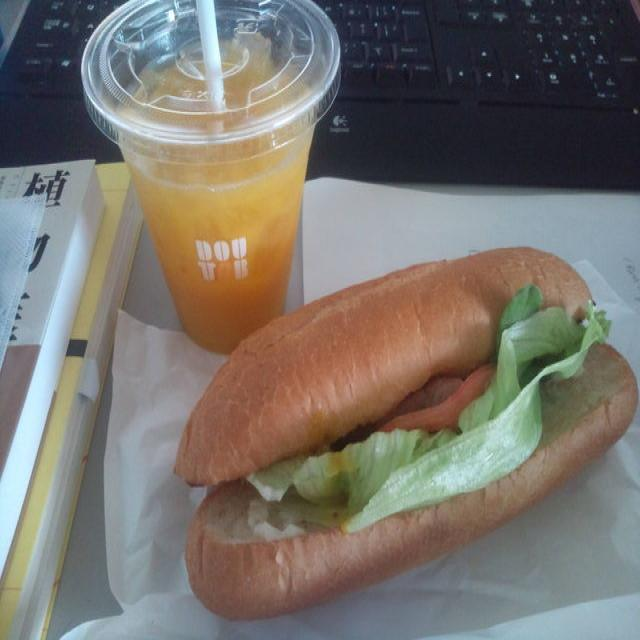三明治: (134, 236, 500, 640)
